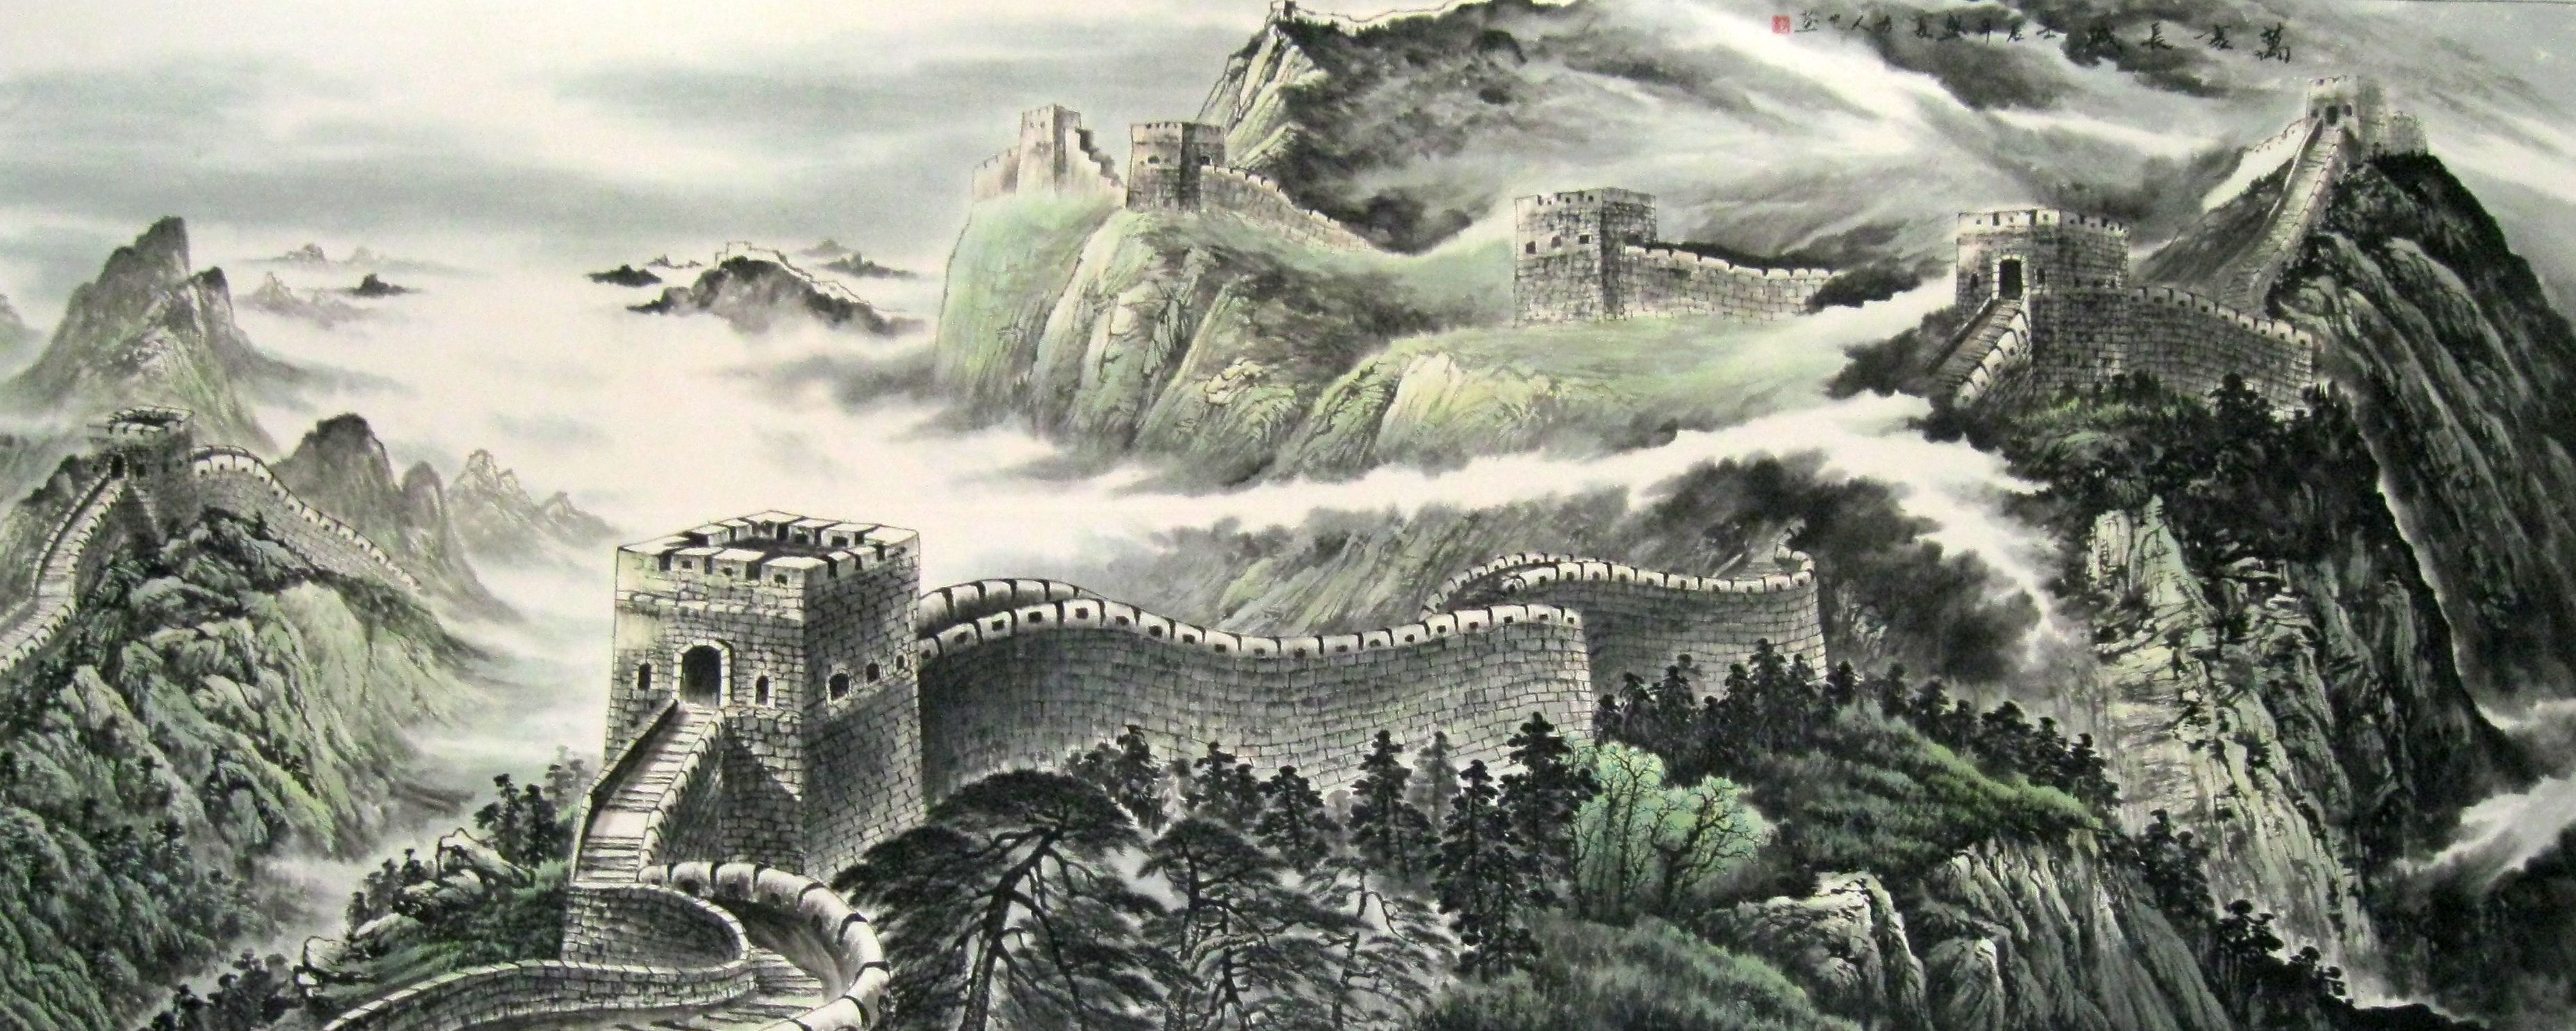mountain: (2029, 414, 2495, 952), (2316, 163, 2569, 946), (959, 184, 1490, 474), (77, 540, 352, 1031)
range: (238, 228, 905, 343)
tree: (936, 752, 1745, 1013)
